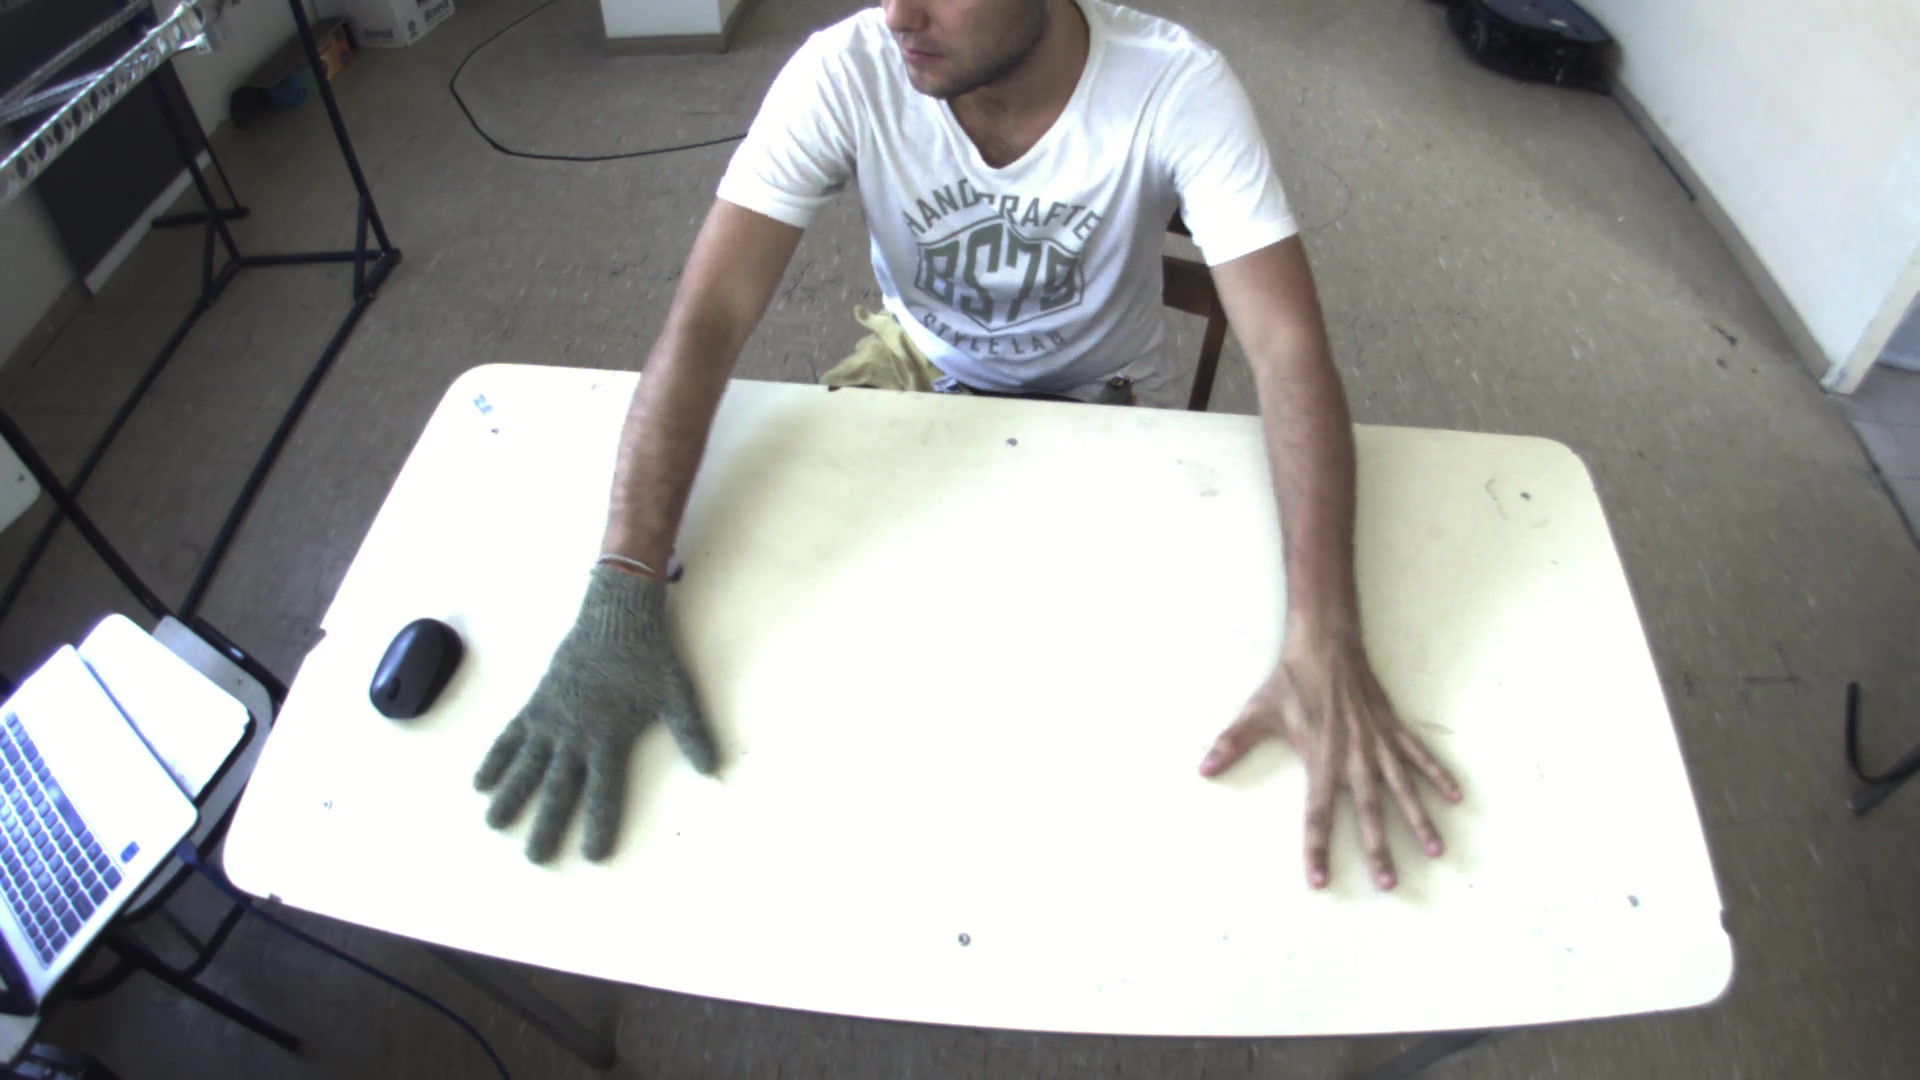hand: (1201, 607, 1491, 906), (455, 553, 719, 877)
